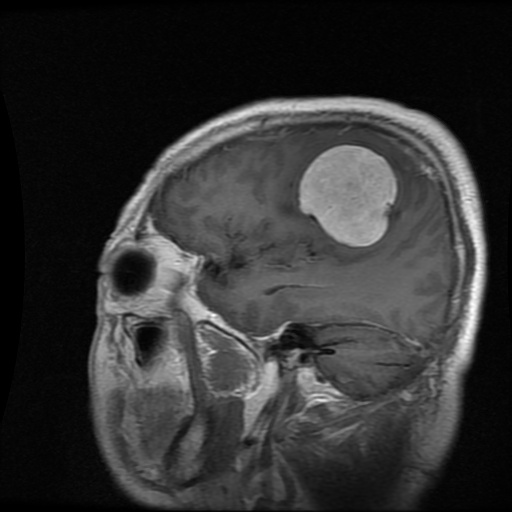meningioma: (300, 145, 395, 246)
